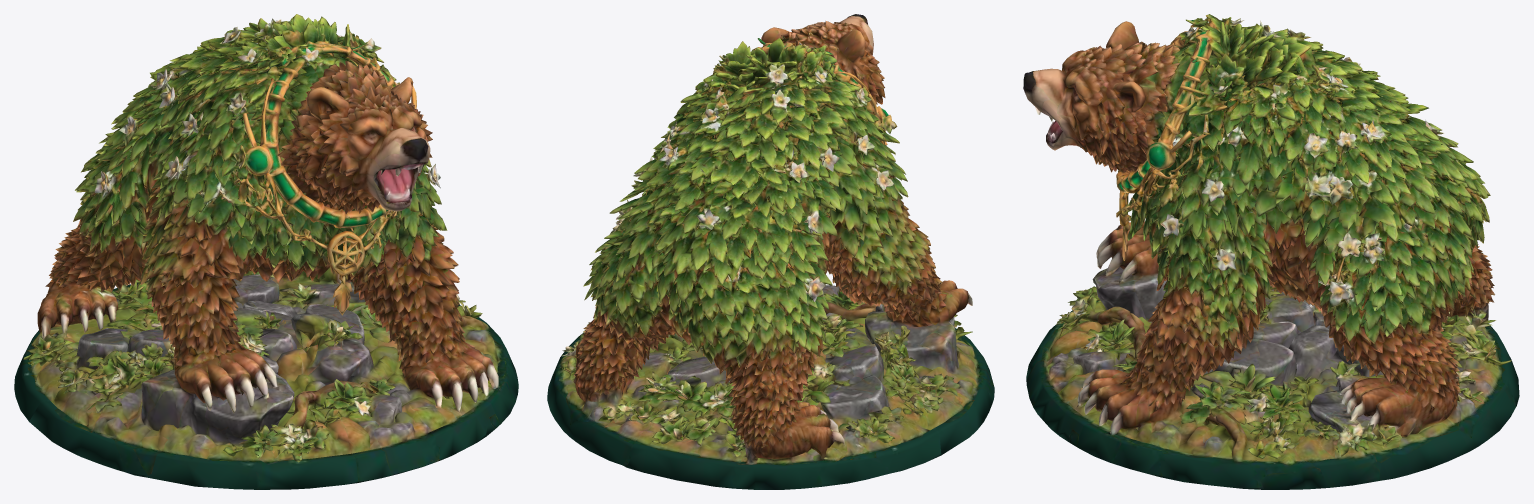
The model's file is ancientBear.glb.
3 views of the same model, side by side, from view 1: azimuth 30°, elevation 25°; view 2: azimuth 150°, elevation 25°; view 3: azimuth 270°, elevation 25° (orthographic). The views are drawn at different scales.
Size of the model in its own units: 1.89 by 1.58 by 1.9.
Materials: 1 (1 with a texture image).
